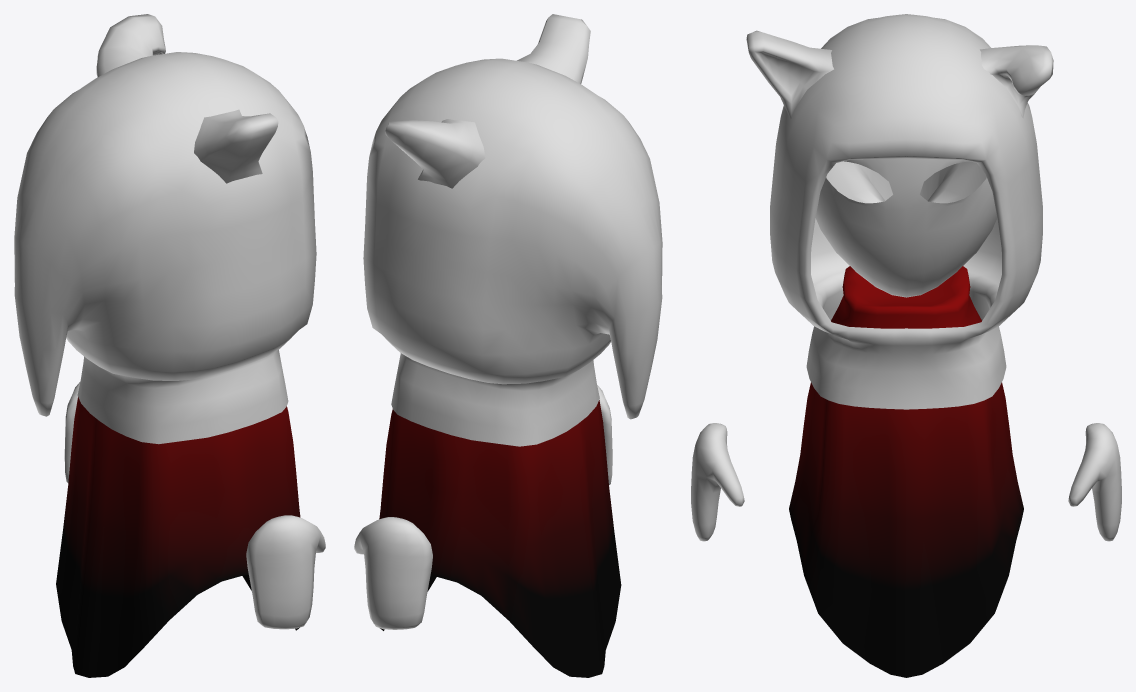
File: Player.fbx
3 renders of one model, left to right at view 1: azimuth 30°, elevation 25°; view 2: azimuth 150°, elevation 25°; view 3: azimuth 270°, elevation 25°, orthographic. The views are drawn at different scales.
Visible parts, largest first — view 1: Hoodie, Body_Short, Hand_R, Hand_L; view 2: Hoodie, Body_Short, Hand_L, Hand_R; view 3: Hoodie, Body_Short, Mask, Hand_R, Hand_L.
Boxes of the visible parts, bbox=[...] form: Hoodie: bbox=[14, 14, 316, 444]; Body_Short: bbox=[56, 397, 300, 677]; Hand_R: bbox=[246, 515, 325, 629]; Hand_L: bbox=[64, 382, 80, 482]; Hoodie: bbox=[363, 14, 662, 446]; Body_Short: bbox=[379, 400, 621, 677]; Hand_L: bbox=[354, 517, 432, 629]; Hand_R: bbox=[597, 385, 612, 484]; Hoodie: bbox=[746, 14, 1053, 409]; Body_Short: bbox=[789, 266, 1023, 677]; Mask: bbox=[815, 158, 997, 297]; Hand_R: bbox=[691, 423, 744, 541]; Hand_L: bbox=[1068, 423, 1121, 541].
Size of the model in its own units: 84.59 by 114 by 173.
